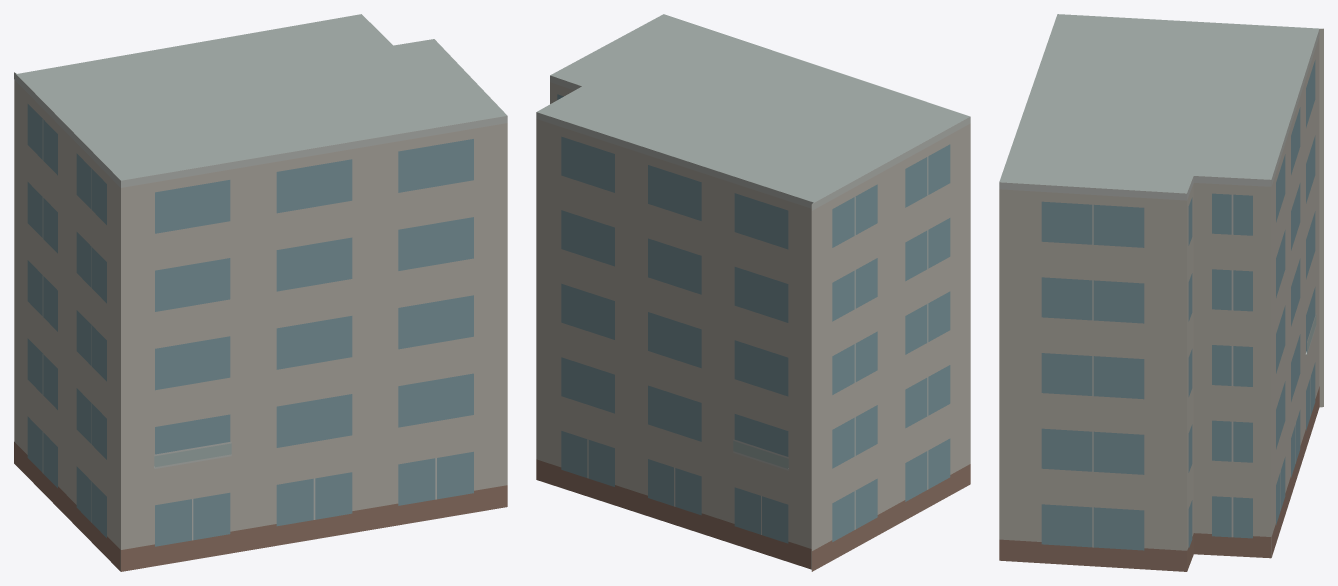
Rendered from survey-upis-32968553.glb.
The picture shows the model from 3 angles, left to right: view 1: azimuth 30°, elevation 25°; view 2: azimuth 150°, elevation 25°; view 3: azimuth 270°, elevation 25°; orthographic projection. The views are drawn at different scales.
Parts seen in each view (by area): view 1: survey-upis-32968553.tmp; view 2: survey-upis-32968553.tmp; view 3: survey-upis-32968553.tmp.
Part boxes in pixels (left/top/right/bottom): survey-upis-32968553.tmp: left=14, top=14, right=507, bottom=571; survey-upis-32968553.tmp: left=536, top=14, right=970, bottom=571; survey-upis-32968553.tmp: left=999, top=14, right=1323, bottom=571.
Bounding box in the file's own units: 13.45 × 13.2 × 10.28.
